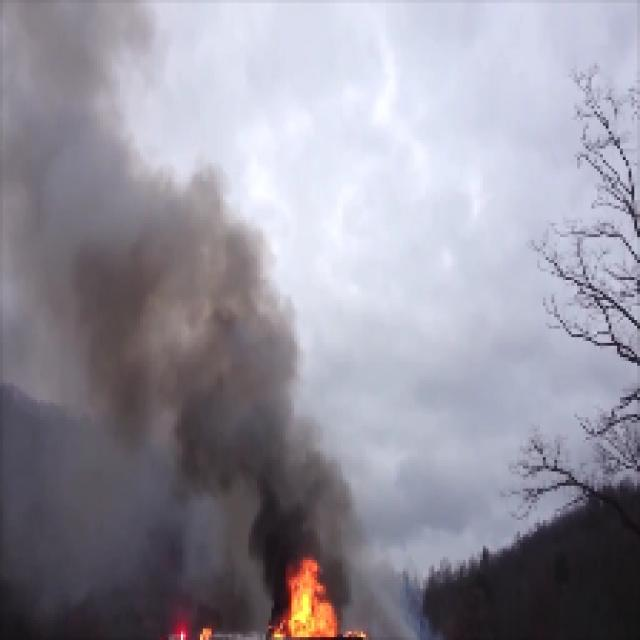smoke: (5, 1, 155, 458), (160, 165, 303, 529)
